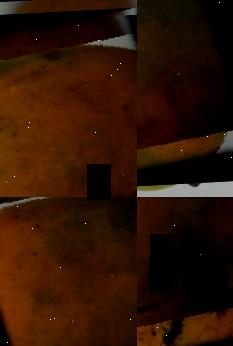PartiallyRipe: (0, 197, 137, 346), (137, 0, 233, 182)
Ripe: (0, 12, 137, 197), (137, 197, 233, 346)
